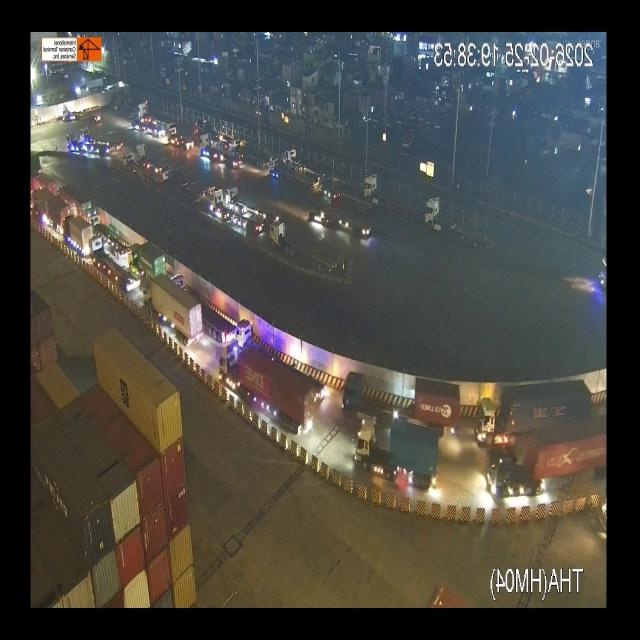truck: (216, 345, 319, 435), (491, 426, 609, 499), (471, 373, 585, 447), (336, 376, 462, 422), (351, 425, 444, 485), (268, 220, 346, 276), (141, 273, 193, 350), (420, 198, 492, 248), (91, 238, 145, 297), (363, 167, 417, 212), (235, 309, 277, 355), (57, 212, 93, 262), (126, 233, 164, 279)
